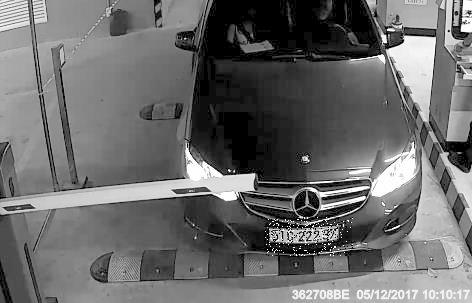License-plate: (267, 218, 355, 257)
